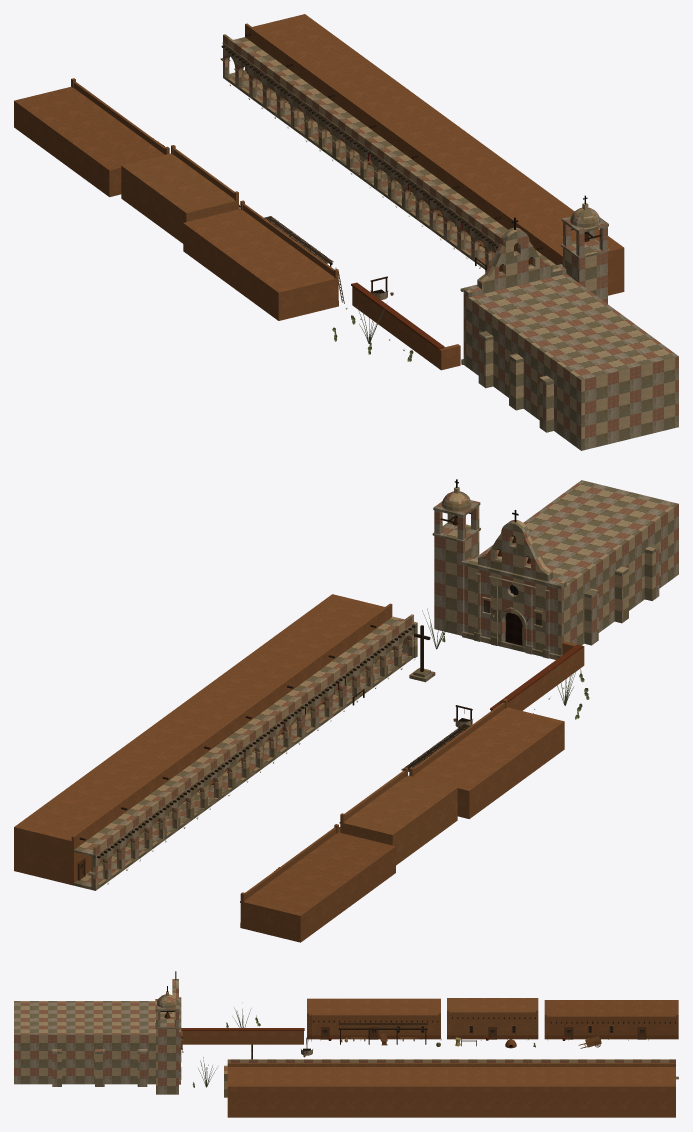
The model's file is mission.glb.
The picture shows the model from 3 angles, top to bottom: view 1: azimuth 30°, elevation 25°; view 2: azimuth 150°, elevation 25°; view 3: azimuth 270°, elevation 25°; orthographic projection. The views are drawn at different scales.
Visible parts, largest first — view 1: adobe-6, masonry-7, trim-4; view 2: adobe-6, masonry-7, trim-4; view 3: adobe-6, masonry-7, trim-4, kit-8.
Boxes of the visible parts, x1,y1,x2,y2 form: adobe-6: [14, 14, 624, 370]; masonry-7: [220, 34, 678, 450]; trim-4: [221, 33, 601, 303]; adobe-6: [14, 594, 584, 942]; masonry-7: [69, 480, 678, 890]; trim-4: [79, 479, 528, 902]; adobe-6: [180, 998, 678, 1117]; masonry-7: [14, 979, 678, 1097]; trim-4: [160, 971, 675, 1059]; kit-8: [303, 1025, 646, 1057].
Size of the model in its own units: 38.5 by 18.81 by 109.
10 materials, 9 textured.
